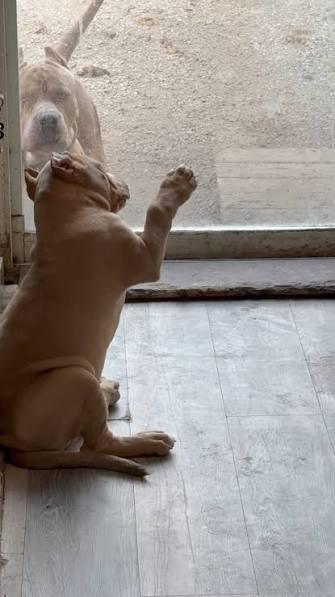adult_dog: (19, 46, 108, 173)
puppy-dog: (0, 148, 196, 479)
